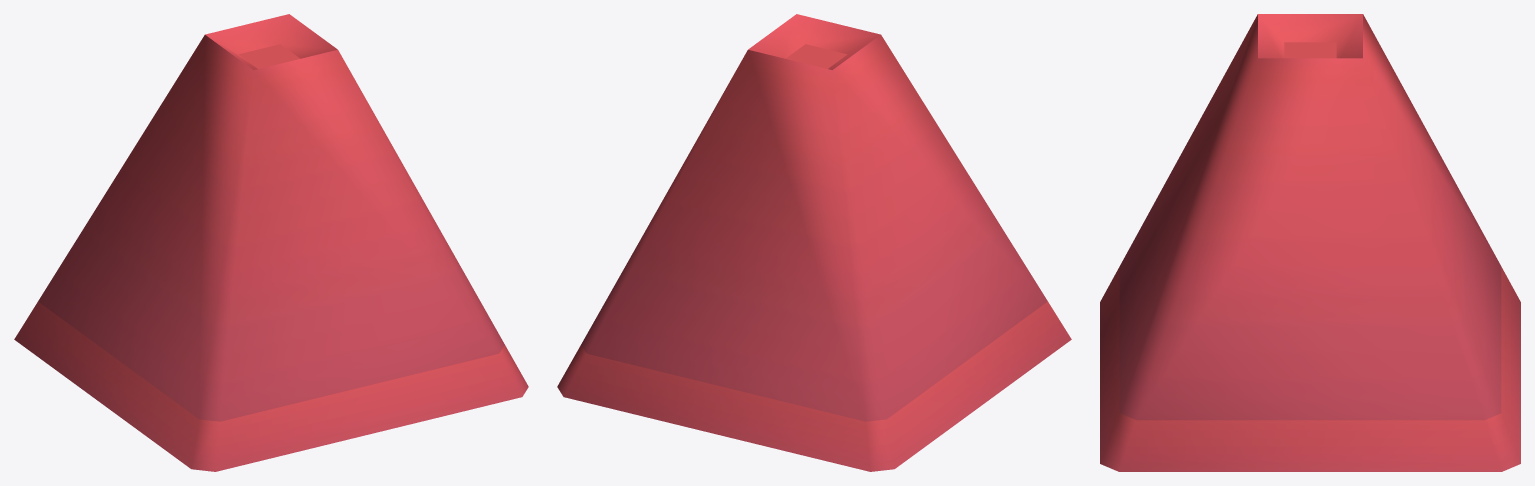
The model's file is roof-high-point.glb.
3 renders of one model, left to right at view 1: azimuth 30°, elevation 25°; view 2: azimuth 150°, elevation 25°; view 3: azimuth 270°, elevation 25°, orthographic. The views are drawn at different scales.
Parts seen in each view (by area): view 1: roof-high-point; view 2: roof-high-point; view 3: roof-high-point.
Boxes of the visible parts, bbox=[...] form: roof-high-point: bbox=[14, 14, 528, 471]; roof-high-point: bbox=[557, 14, 1071, 471]; roof-high-point: bbox=[1100, 14, 1520, 471].
Size of the model in its own units: 1.1 by 1 by 1.1.
Materials: 1 (1 with a texture image).
